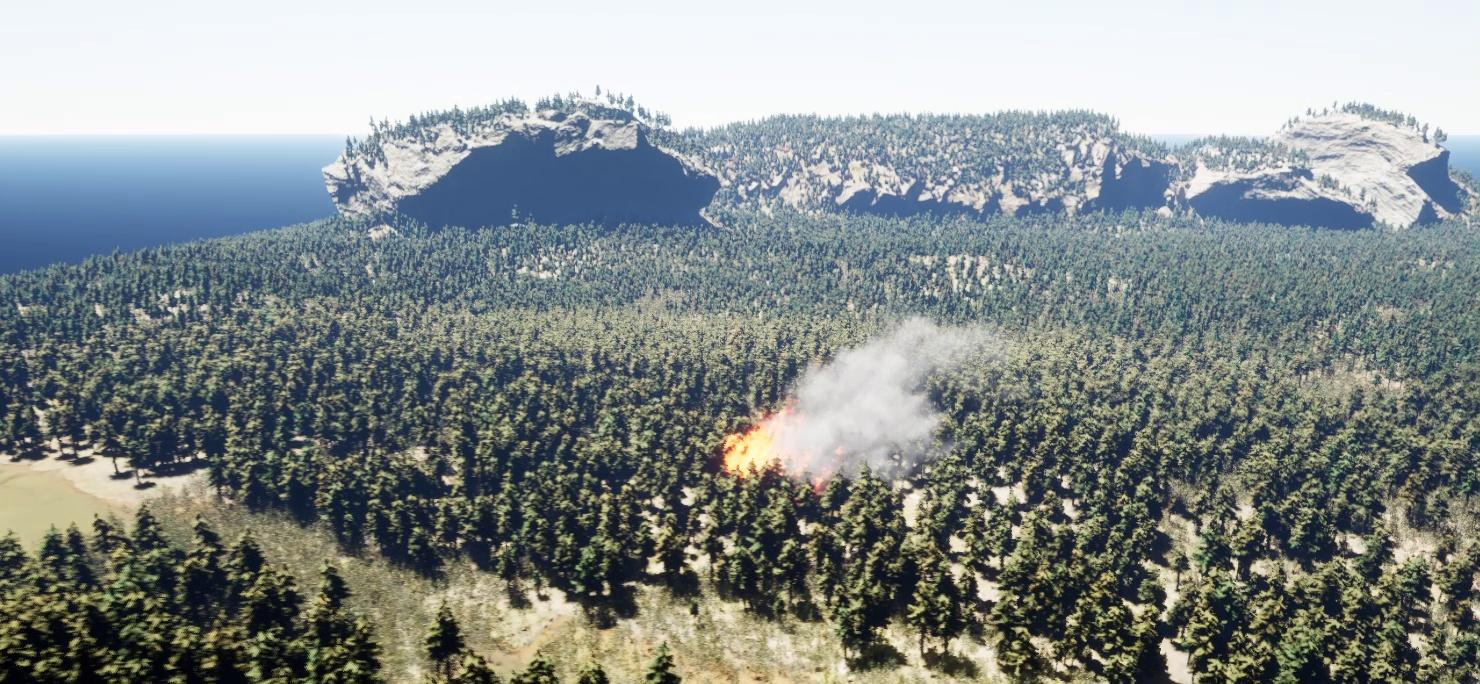fire: (726, 399, 831, 493)
smoke: (790, 309, 982, 483)
